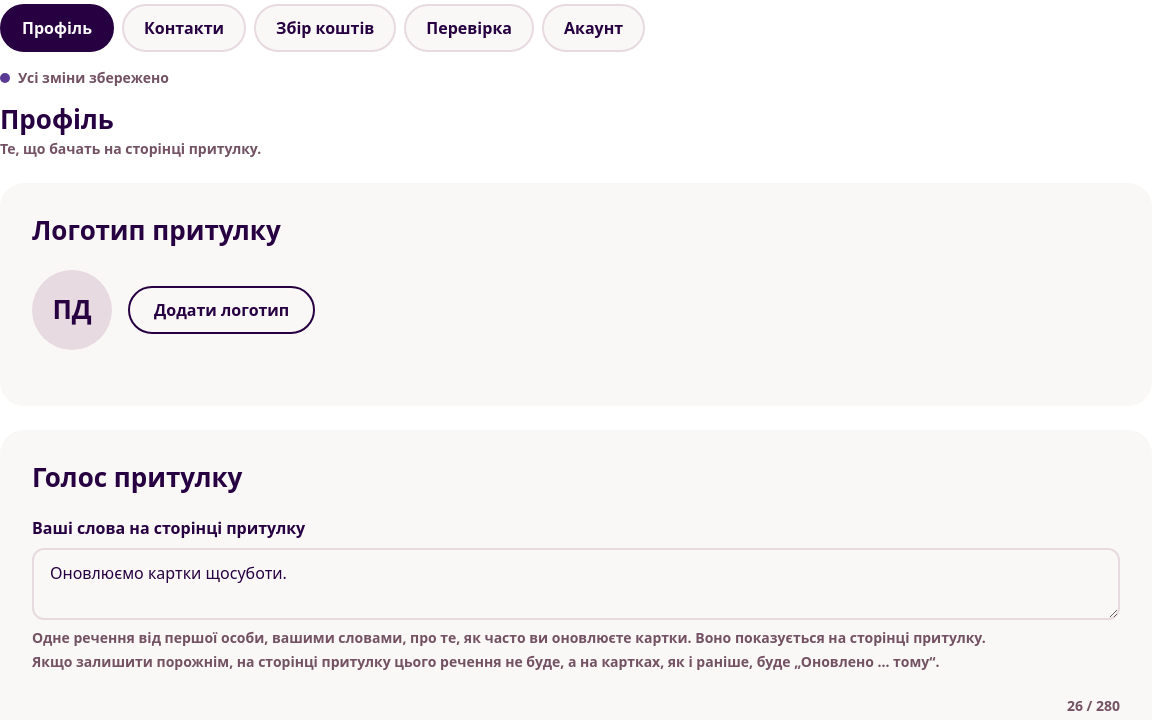
Test: contacts (answer 3, answer 4) › names the bad field with his message and sends nothing
Click the tab "Контакти".
click(184, 28)  # box [122, 4, 246, 52]
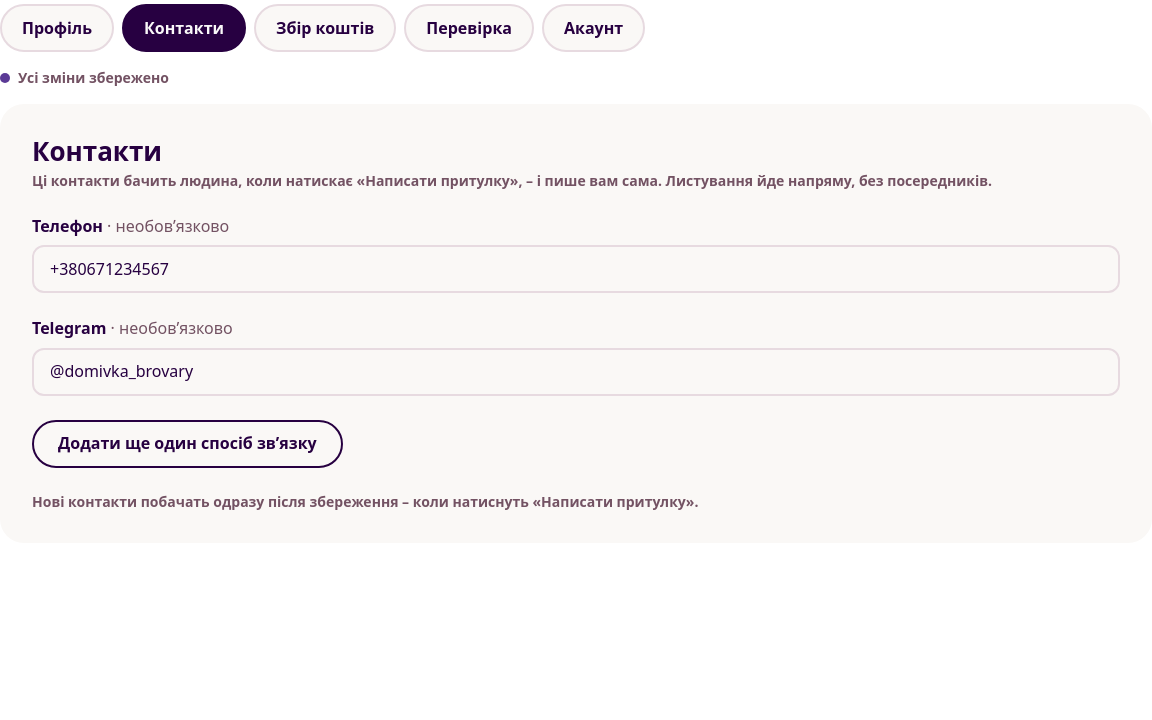
Replace the text in the field labelled "Телефон · необовʼязково" with "+380670000002213" at (576, 269), box [32, 245, 1120, 293]
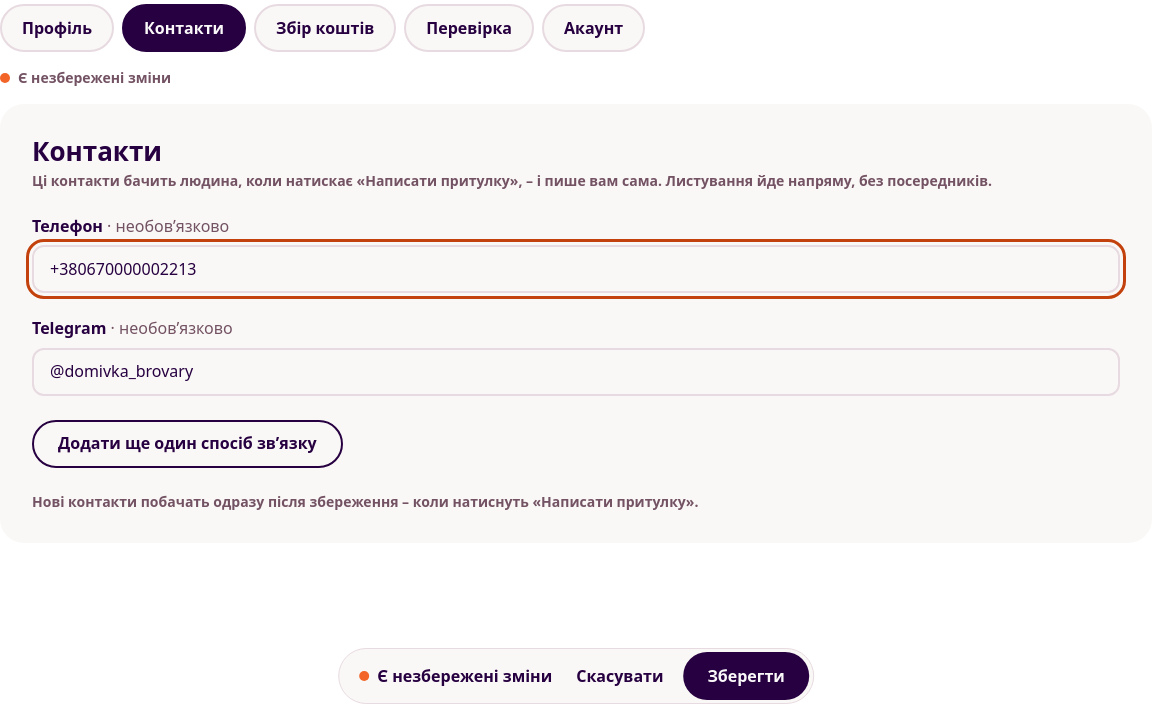
Click the button "Зберегти".
click(746, 676)  # box [683, 652, 809, 700]
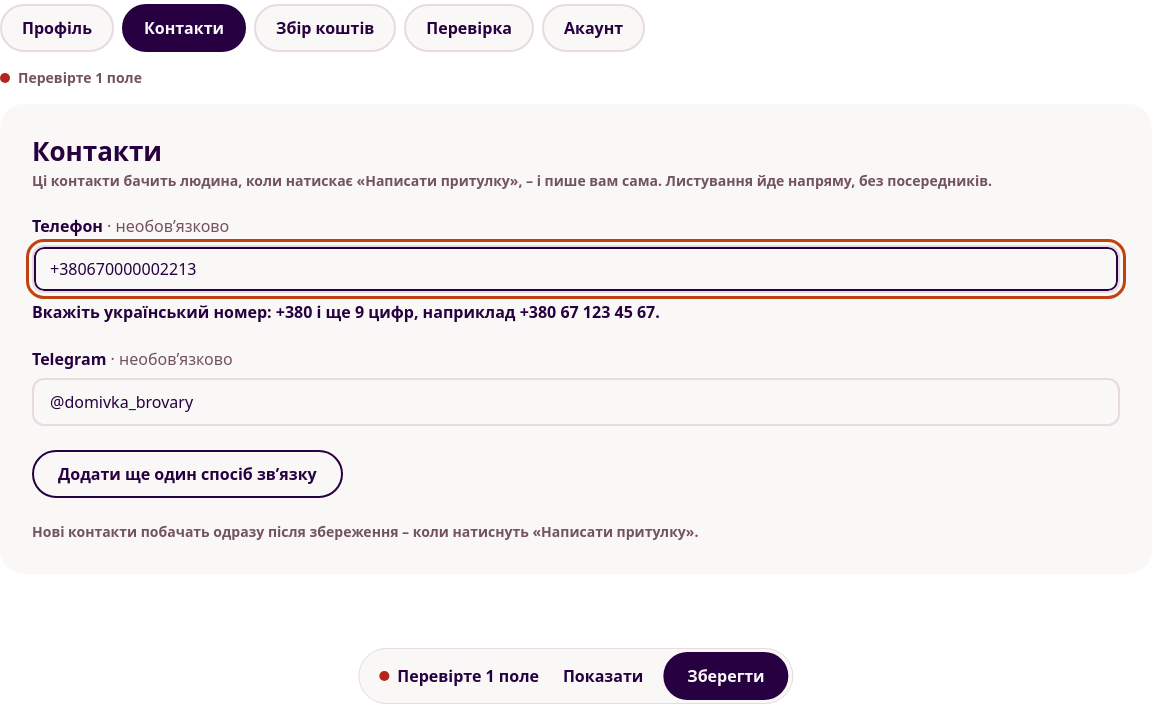
Now the text "Вкажіть український номер: +380 і ще 9 цифр, наприклад +380 67 123 45 67." is shown, box [32, 301, 660, 323]
